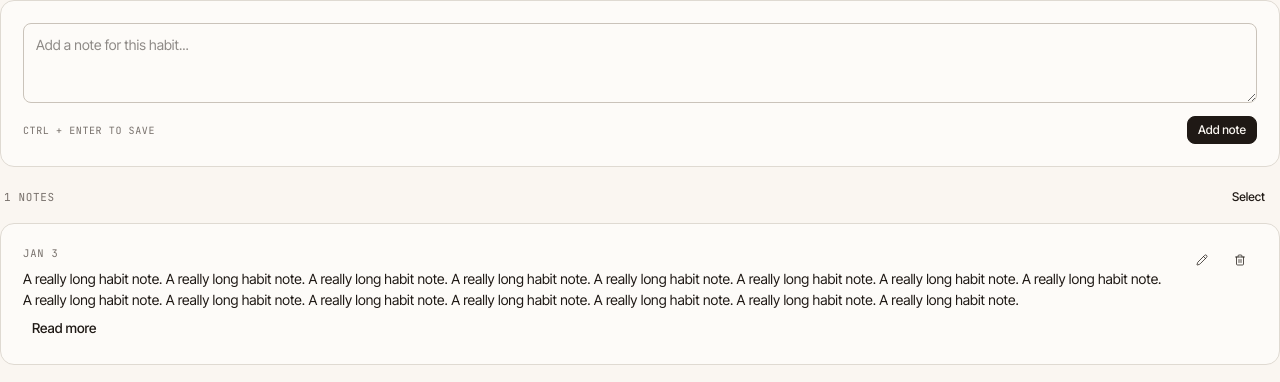
Test case: UI regressions › clamps long habit notes with a Read more / Read less toggle
Click the button "Read more": click(64, 328) [23,314,105,342]
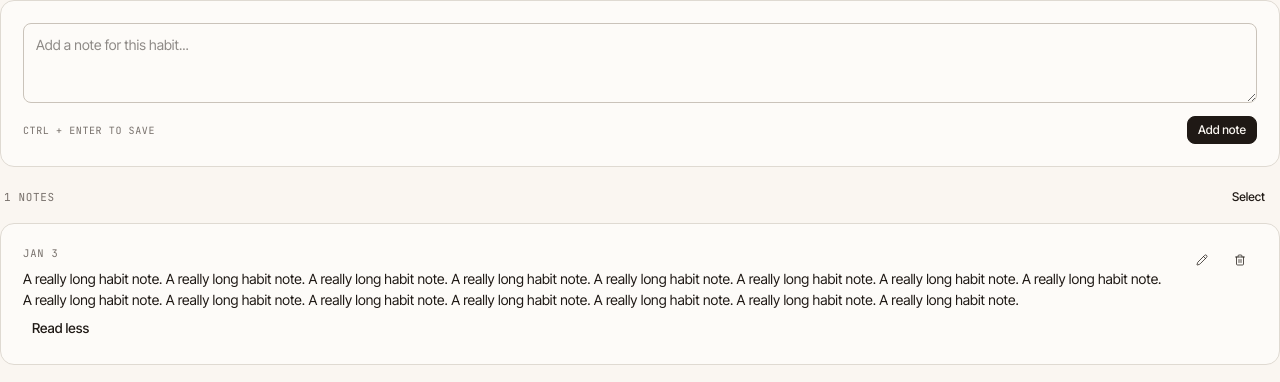
Result: the button "Read less" is shown at [23,314,98,342]
